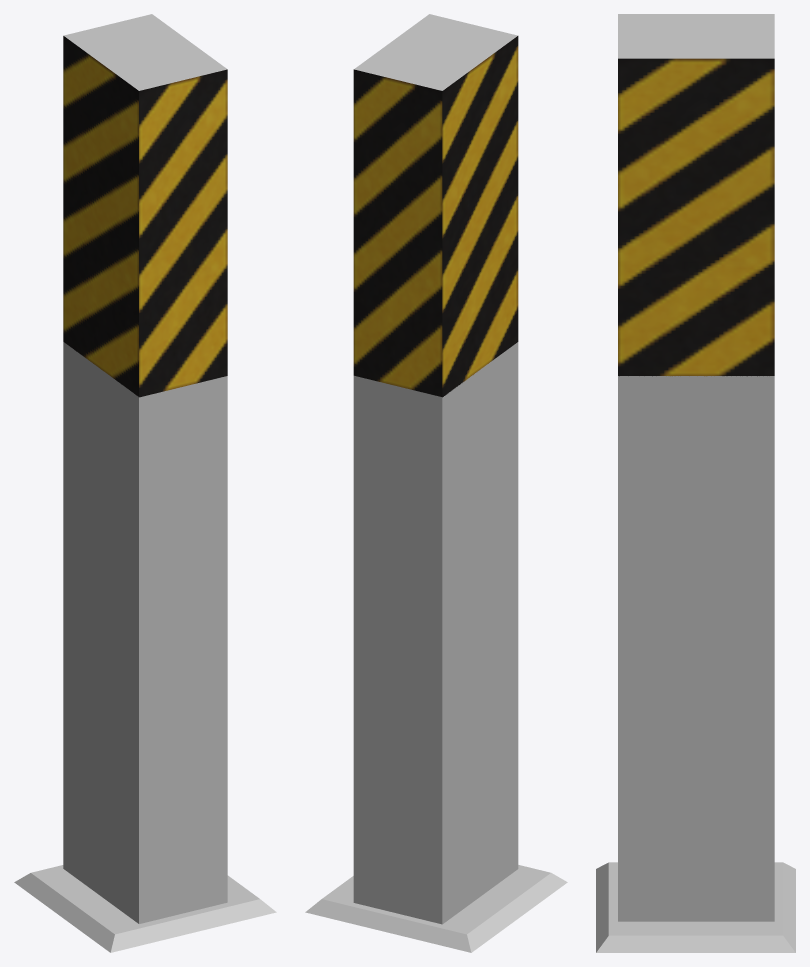
Rendered from D_bum_02.FBX.
The picture shows the model from 3 angles, left to right: view 1: azimuth 30°, elevation 25°; view 2: azimuth 150°, elevation 25°; view 3: azimuth 270°, elevation 25°; orthographic projection. The views are drawn at different scales.
Visible parts, largest first — view 1: robber_02; view 2: robber_02; view 3: robber_02.
Boxes of the visible parts, <box> form: robber_02: <box>14,14,276,952</box>; robber_02: <box>305,14,567,952</box>; robber_02: <box>596,14,795,952</box>.
Size of the model in its own units: 0.618 by 0.621 by 3.
